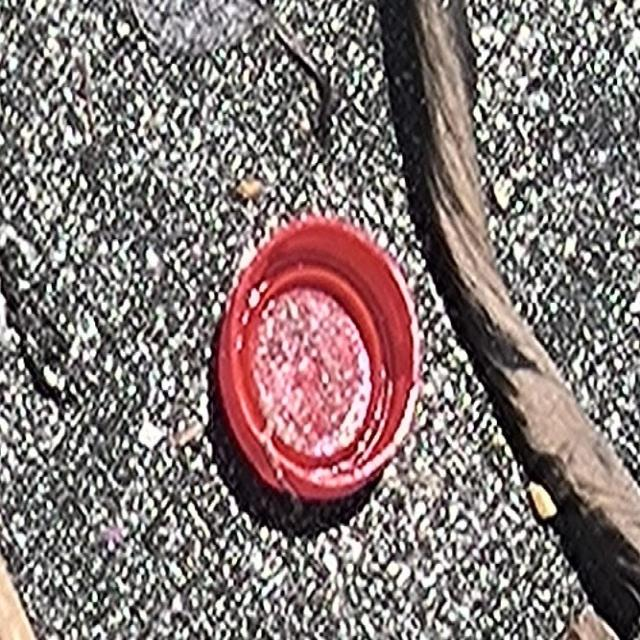plastic_waste: (215, 215, 423, 503)
